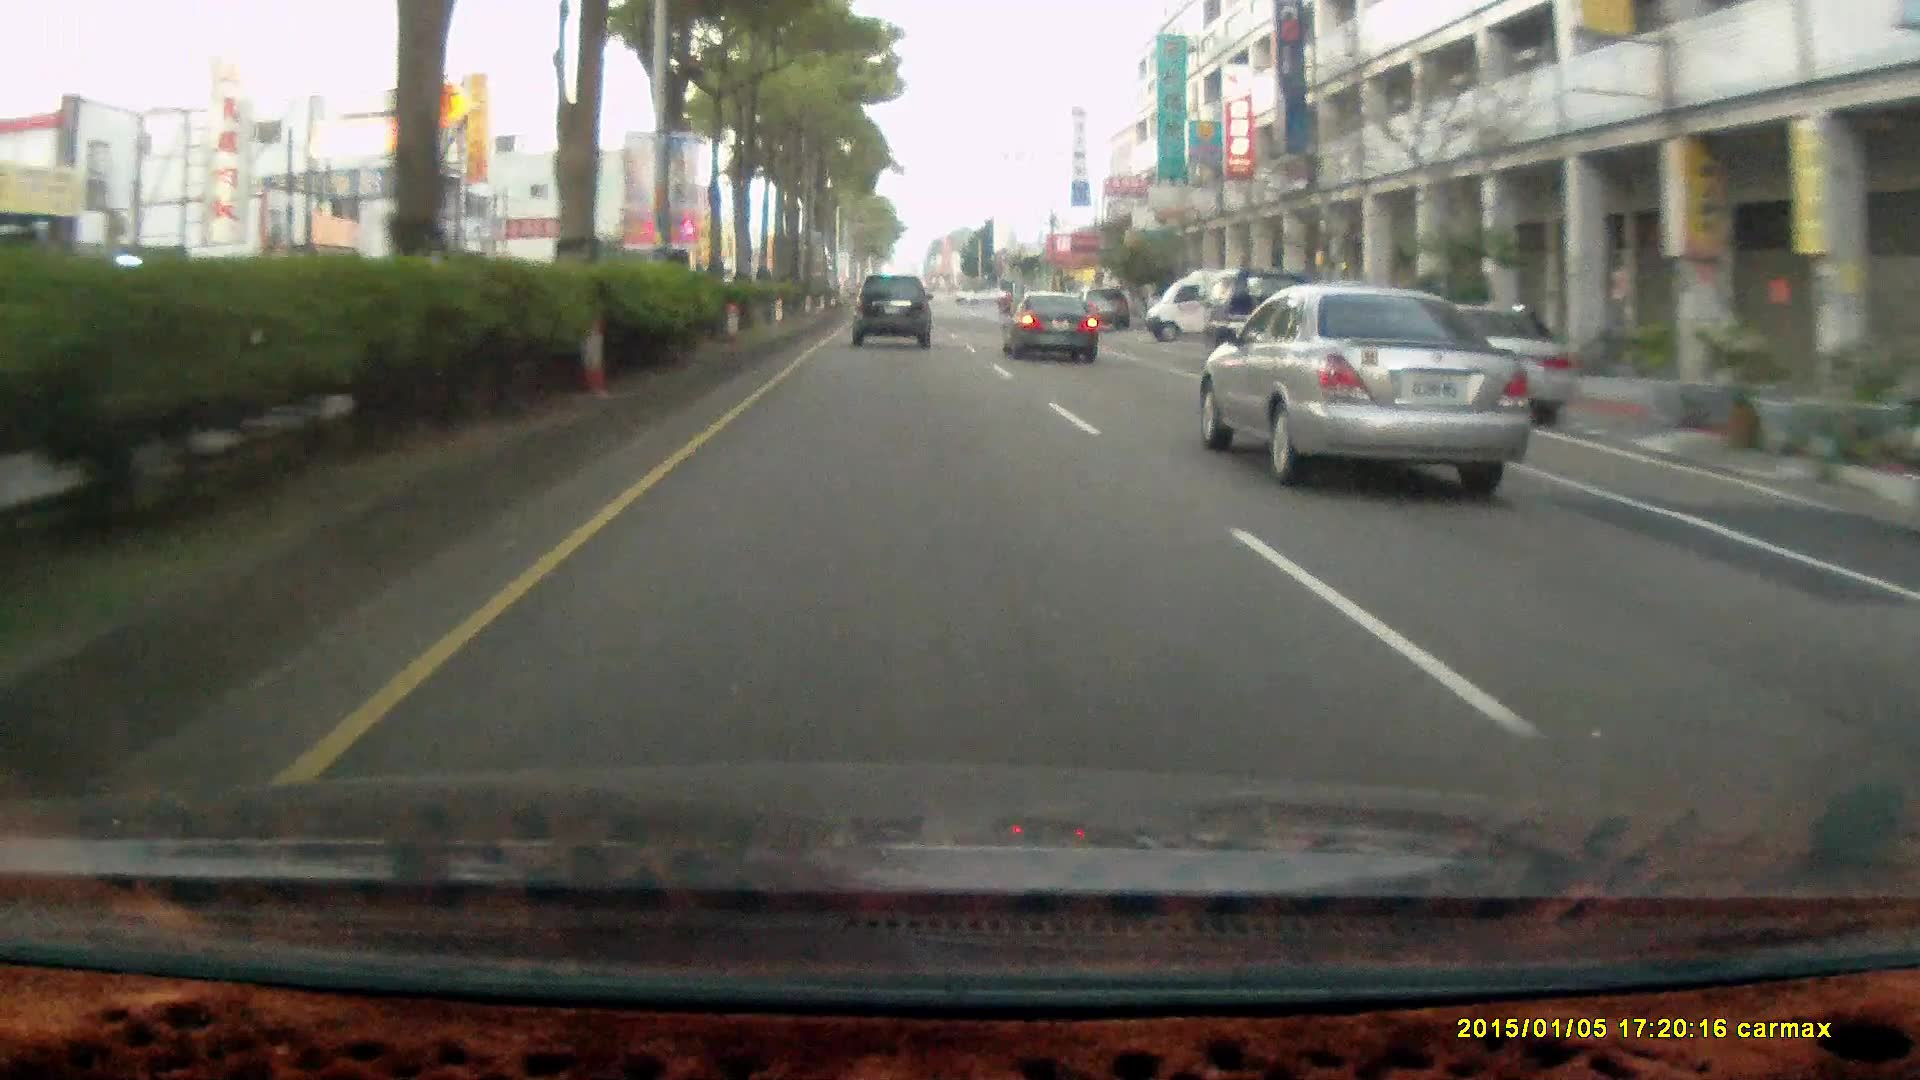vehicle: (1195, 287, 1526, 487), (1367, 301, 1575, 426), (1371, 309, 1572, 425), (1226, 274, 1360, 396), (1201, 269, 1332, 377), (1145, 266, 1288, 345), (1145, 266, 1286, 342), (1001, 294, 1102, 368), (1000, 287, 1096, 361), (851, 274, 935, 353), (851, 273, 932, 347), (1073, 284, 1131, 328)
